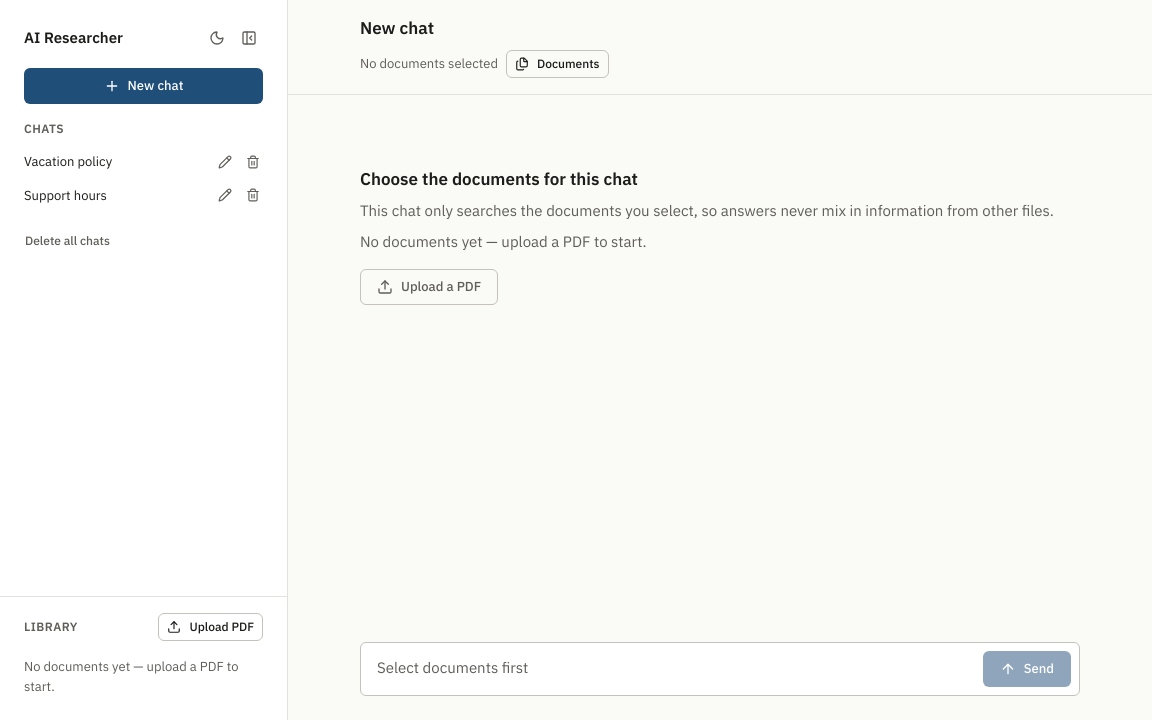
Sidebar › deletes a chat after the user confirms
Click the button named "Delete \"Vacation policy\"".
click(253, 162)  # box [239,148,267,176]
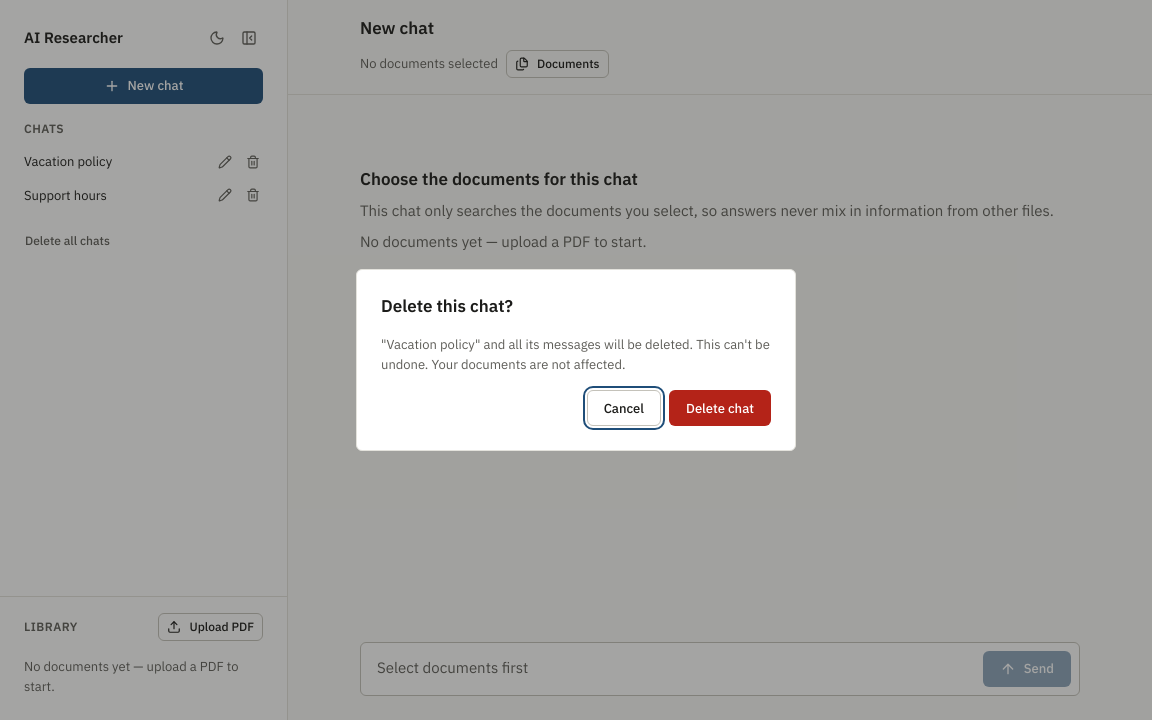
Now the dialog shows "Your documents are not affected.", box [381,336,770,373]
Click the button "Delete chat".
click(720, 408)  # box [669,390,771,426]
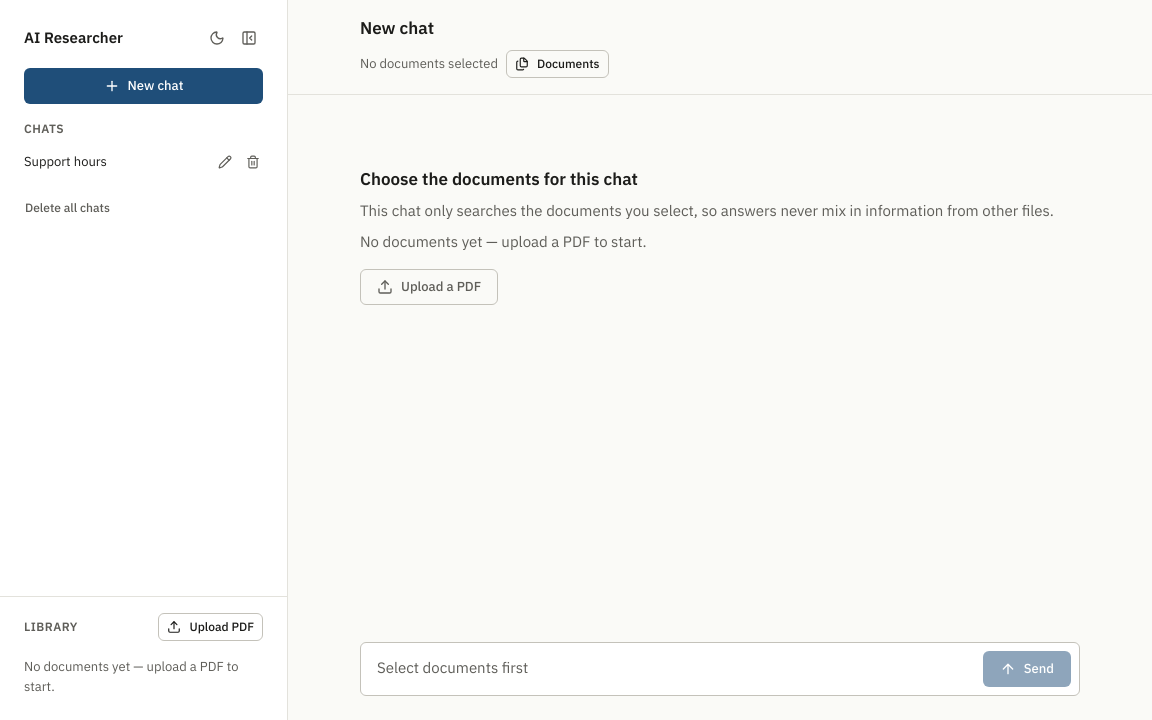
Now the button "Vacation policy" is gone
Now the dialog is gone
